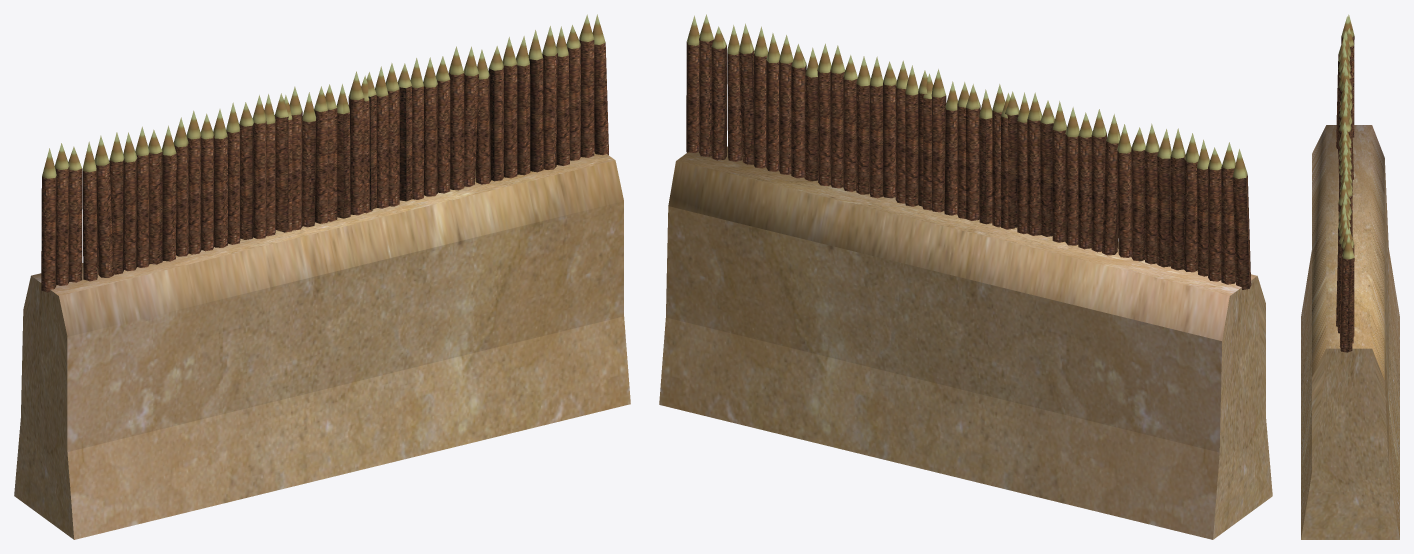
Rendered from yayoi_wall_med.dae.
3 renders of one model, left to right at view 1: azimuth 30°, elevation 25°; view 2: azimuth 150°, elevation 25°; view 3: azimuth 270°, elevation 25°, orthographic. The views are drawn at different scales.
Parts seen in each view (by area): view 1: wall_med; view 2: wall_med; view 3: wall_med.
Part boxes in pixels (bbox=[...]): wall_med: bbox=[14, 14, 630, 539]; wall_med: bbox=[659, 14, 1272, 539]; wall_med: bbox=[1301, 14, 1399, 539].
Size of the model in its own units: 24.6 by 4.52 by 15.53.
Materials: 1 (1 with a texture image).
